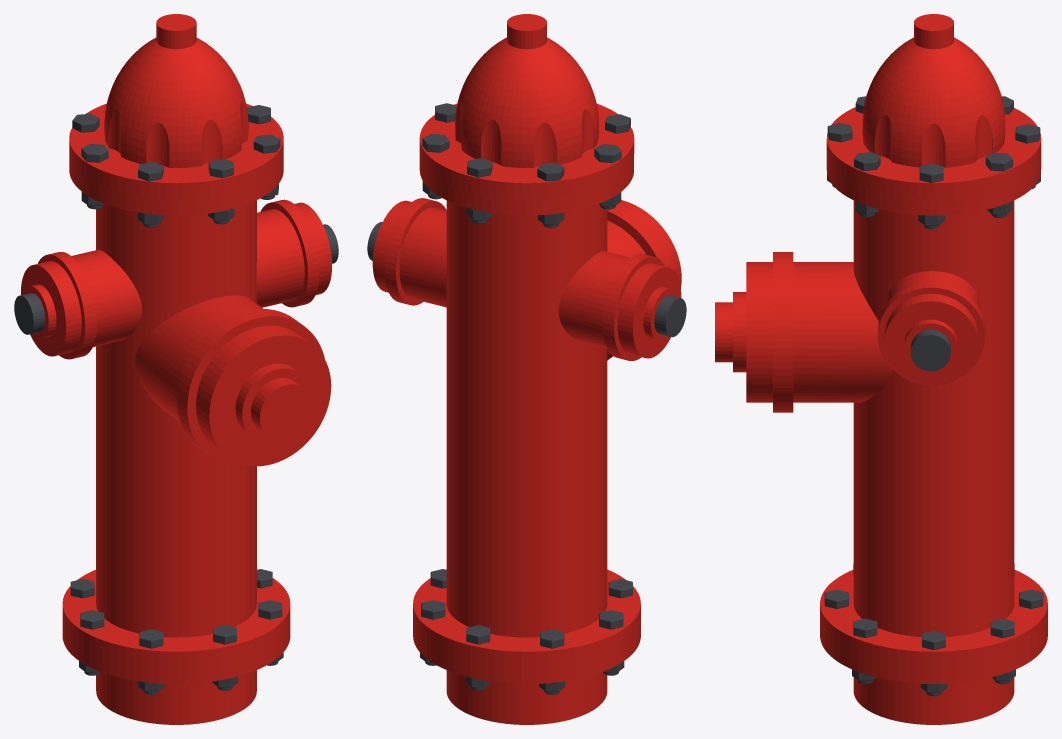
File: hydrant.glb
The picture shows the model from 3 angles, left to right: view 1: azimuth 30°, elevation 25°; view 2: azimuth 150°, elevation 25°; view 3: azimuth 270°, elevation 25°; orthographic projection.
Visible parts, largest first — view 1: сборка гидранта; view 2: сборка гидранта; view 3: сборка гидранта.
Part boxes in pixels (box(x1,y1,x2,y2)): сборка гидранта: box(14, 14, 338, 724); сборка гидранта: box(367, 14, 686, 724); сборка гидранта: box(715, 14, 1047, 724).
Size of the model in its own units: 391 by 826 by 373.
